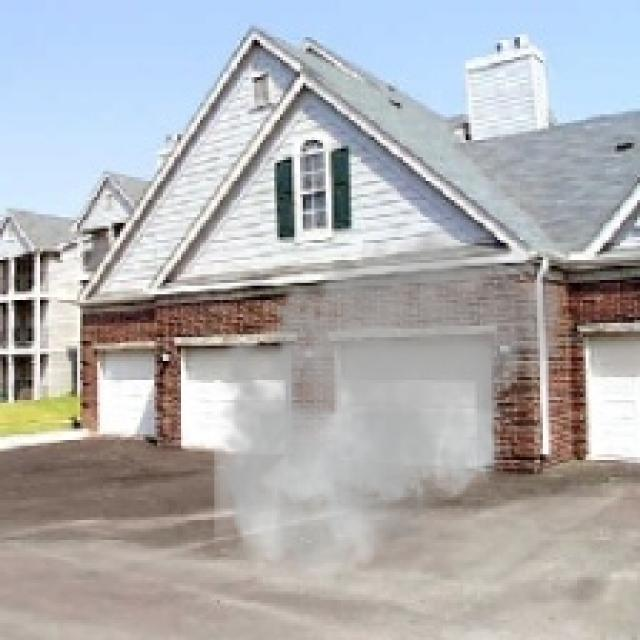smoke: (200, 212, 571, 592)
